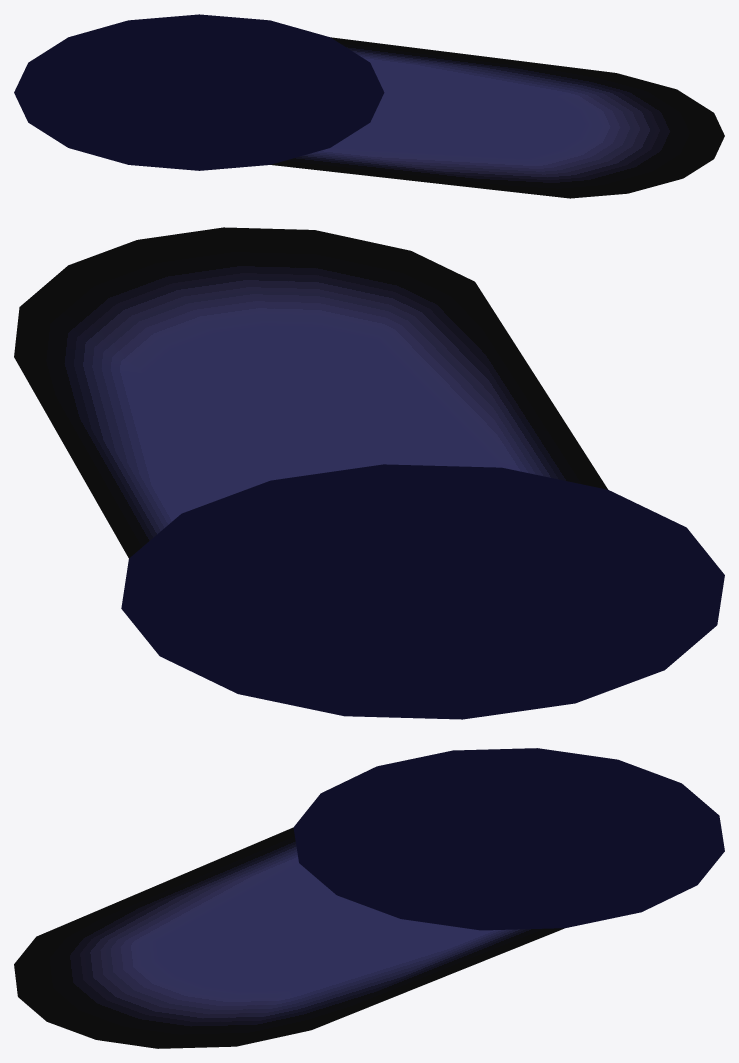
3 views of the same model, one above another, from view 1: azimuth 30°, elevation 25°; view 2: azimuth 150°, elevation 25°; view 3: azimuth 270°, elevation 25° (orthographic). The views are drawn at different scales.
Parts seen in each view (by area): view 1: Joint_0_Object_0; view 2: Joint_0_Object_0; view 3: Joint_0_Object_0.
Part boxes in pixels (<box>): Joint_0_Object_0: <box>14,14,724,198</box>; Joint_0_Object_0: <box>14,227,724,719</box>; Joint_0_Object_0: <box>14,748,724,1048</box>.
Bounding box in the file's own units: 488 × 0 × 487.
1 material, 1 textured.
